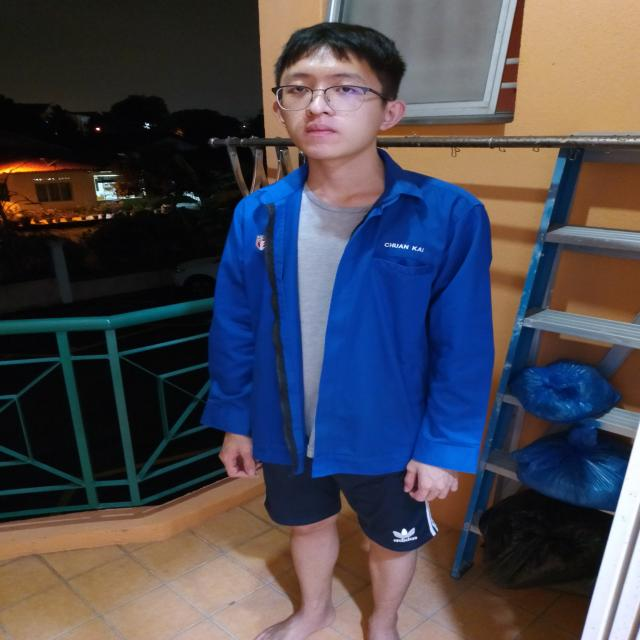person_with_labcoat: (202, 23, 494, 640)
